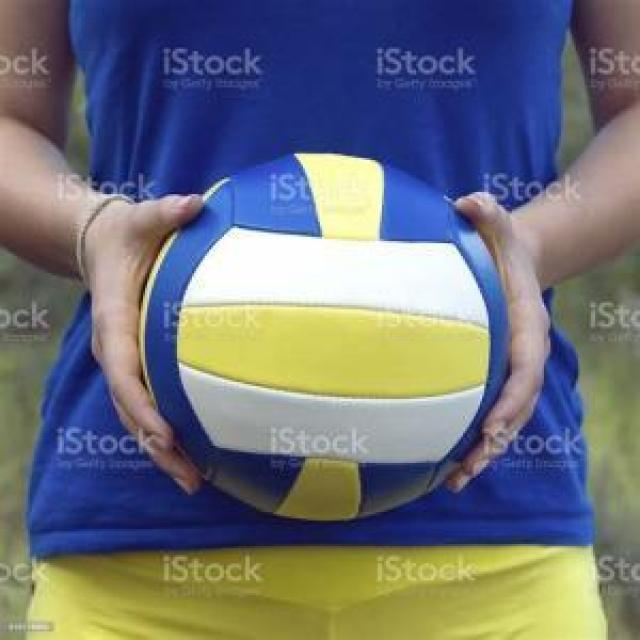volleyball: (138, 150, 513, 522)
